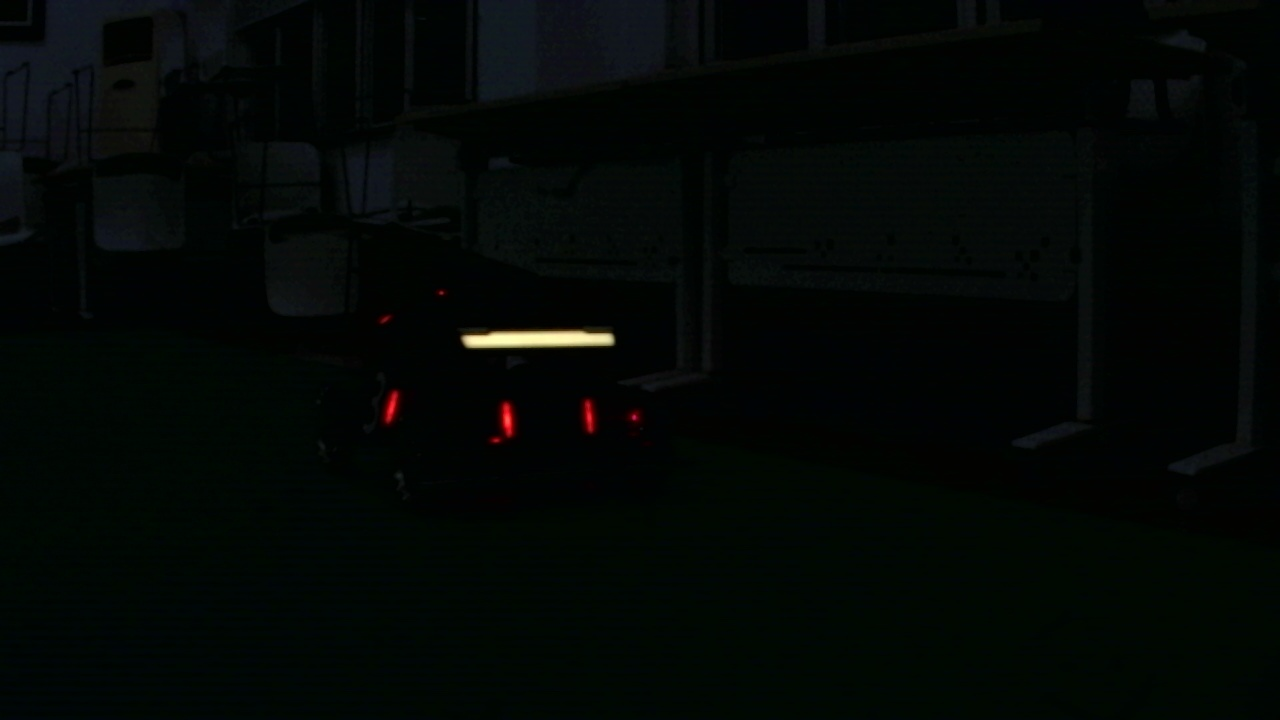lamp: (500, 397, 517, 444), (384, 387, 400, 426), (583, 396, 597, 438)
pair1: (497, 397, 595, 438)
